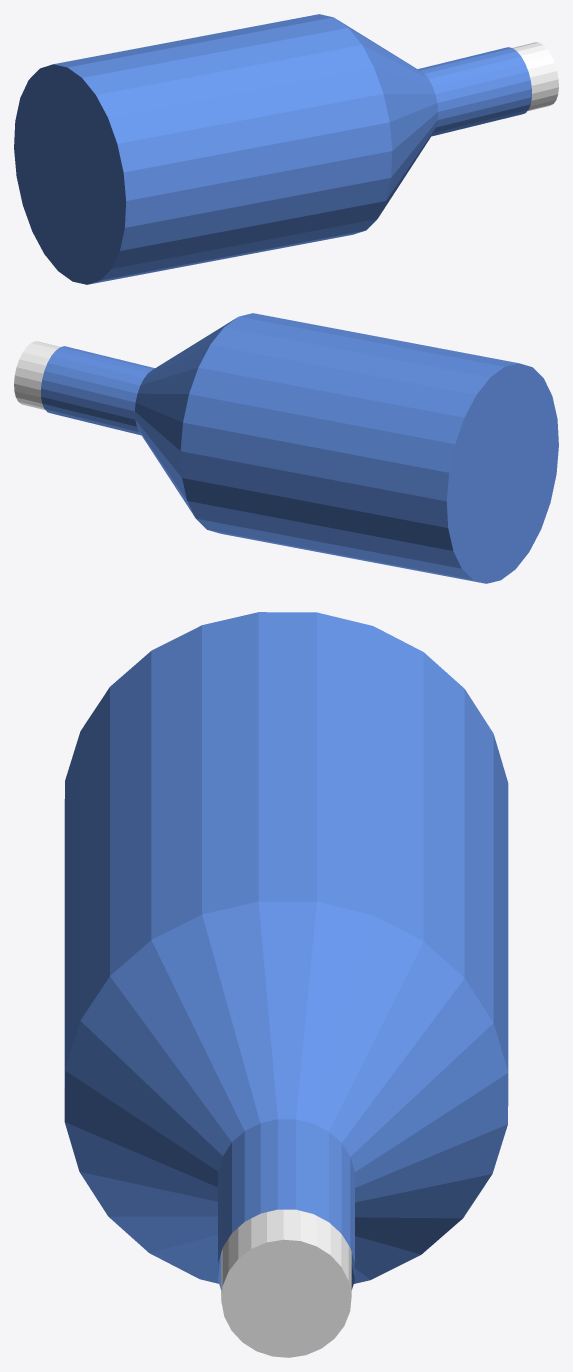
3 renders of one model, top to bottom at view 1: azimuth 30°, elevation 25°; view 2: azimuth 150°, elevation 25°; view 3: azimuth 270°, elevation 25°, orthographic. The views are drawn at different scales.
Parts seen in each view (by area): view 1: ship in bottle; view 2: ship in bottle; view 3: ship in bottle.
Boxes of the visible parts, x1,y1,x2,y2 form: ship in bottle: (14,14,558,284); ship in bottle: (14,313,558,583); ship in bottle: (64,612,508,1357).
Size of the model in its own units: 1649 by 711 by 663.
